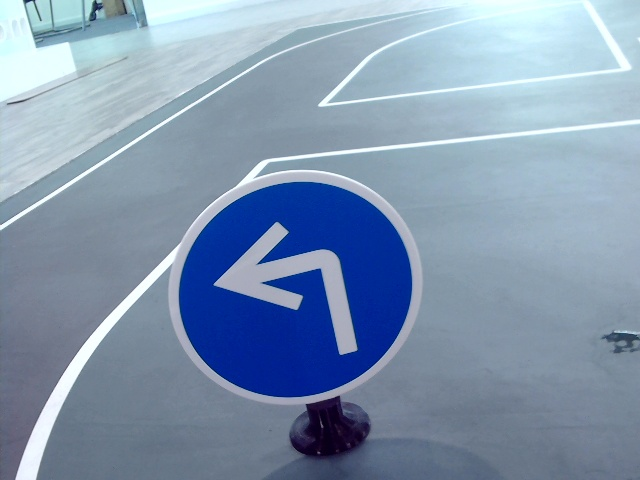turn_left: (215, 220, 362, 357)
